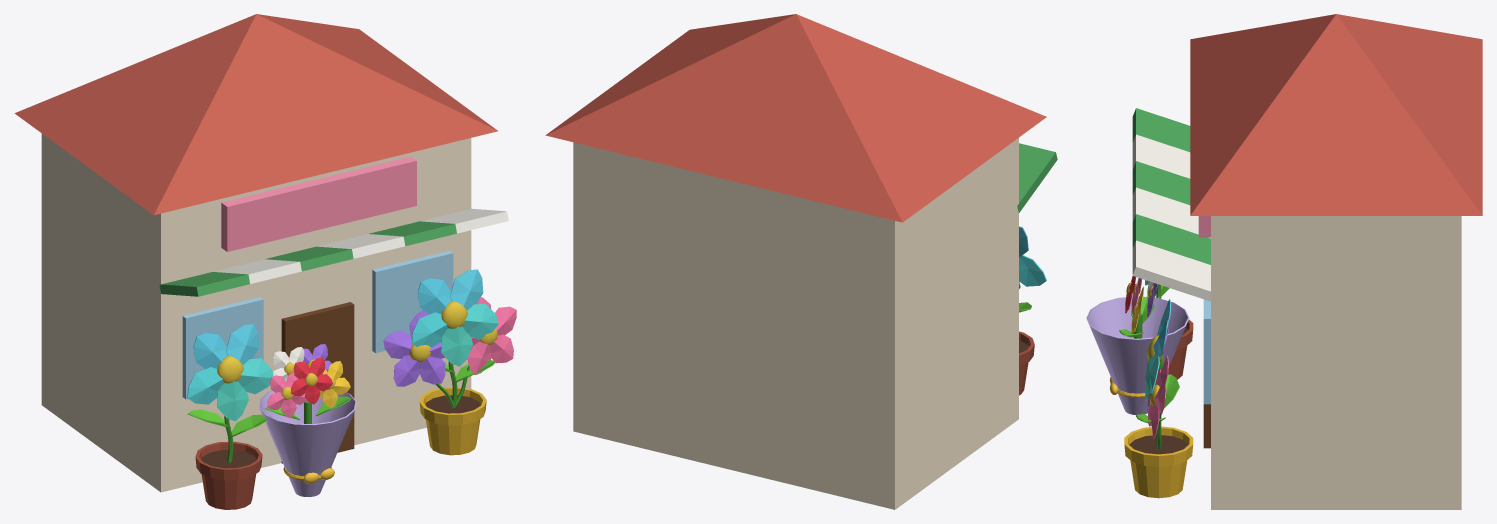
File: Pot_L11.fbx
The picture shows the model from 3 angles, left to right: view 1: azimuth 30°, elevation 25°; view 2: azimuth 150°, elevation 25°; view 3: azimuth 270°, elevation 25°; orthographic projection. The views are drawn at different scales.
Parts seen in each view (by area): view 1: L11_Walls, L11_Roof, L11_Sign, L11_C_L9_Wrap001, L11_Window_R, L11_Door, L11_Window_L, L11_A_L6_Pot001, L11_B_L7_Pot001, L11_Awning_1, L11_Awning_3, L11_Awning_5 (+18 smaller); view 2: L11_Walls, L11_Roof, L11_Awning_1, L11_A_L6_Petal_012, L11_A_L6_Pot001; view 3: L11_Walls, L11_Roof, L11_C_L9_Wrap001, L11_B_L7_Pot001, L11_Awning_6, L11_Awning_5, L11_Awning_4, L11_Awning_1, L11_Awning_3, L11_Awning_2, L11_Window_R, L11_B_L7_Soil001 (+1 smaller).
Boxes of the visible parts, bbox=[...] form: L11_Walls: bbox=[41, 133, 471, 492]; L11_Roof: bbox=[14, 14, 498, 215]; L11_Sign: bbox=[221, 156, 416, 251]; L11_C_L9_Wrap001: bbox=[259, 390, 356, 497]; L11_Window_R: bbox=[372, 250, 453, 353]; L11_Door: bbox=[281, 302, 354, 463]; L11_Window_L: bbox=[182, 297, 263, 399]; L11_A_L6_Pot001: bbox=[195, 441, 262, 509]; L11_B_L7_Pot001: bbox=[419, 387, 486, 455]; L11_Awning_1: bbox=[159, 272, 249, 296]; L11_Awning_3: bbox=[265, 246, 353, 271]; L11_Awning_5: bbox=[369, 221, 456, 246]; L11_Walls: bbox=[573, 138, 1018, 509]; L11_Roof: bbox=[545, 14, 1046, 222]; L11_Awning_1: bbox=[1017, 143, 1057, 212]; L11_A_L6_Petal_012: bbox=[1019, 255, 1046, 286]; L11_A_L6_Pot001: bbox=[1019, 331, 1034, 395]; L11_Walls: bbox=[1211, 216, 1461, 509]; L11_Roof: bbox=[1190, 14, 1482, 215]; L11_C_L9_Wrap001: bbox=[1086, 296, 1189, 414]; L11_B_L7_Pot001: bbox=[1124, 426, 1193, 498]; L11_Awning_6: bbox=[1132, 240, 1213, 301]; L11_Awning_5: bbox=[1132, 214, 1210, 264]; L11_Awning_4: bbox=[1132, 187, 1210, 238]; L11_Awning_1: bbox=[1132, 108, 1190, 151]; L11_Awning_3: bbox=[1132, 161, 1190, 204]; L11_Awning_2: bbox=[1132, 134, 1190, 178]; L11_Window_R: bbox=[1203, 299, 1210, 404]; L11_B_L7_Soil001: bbox=[1129, 435, 1188, 454].
Size of the model in its own units: 40.68 by 44.12 by 37.94.
